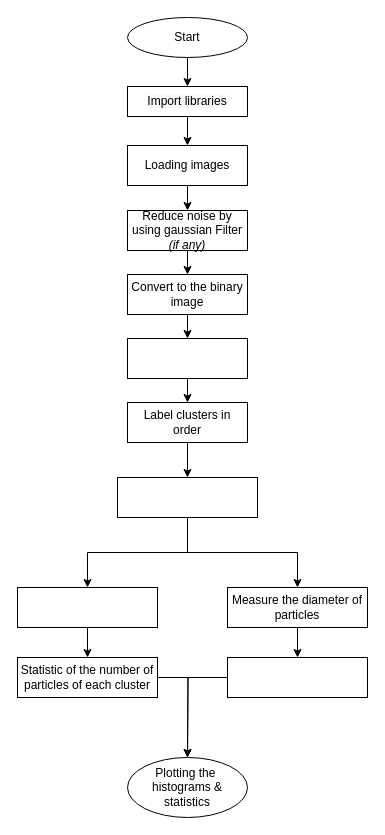
Image size: 385x835. Some labels were removed from this diagram. The shapes that lost their labels are listed below. From the top down, each one's centre as x and y in pixels, then its label:
At point (187, 358): "Remove white dot noise by using morphological filter".
At point (187, 497): "Segment each cluster with watershed".
At point (87, 607): "Count the number of particles of each cluster".
At point (297, 677): "Statistic of the diameter of particles".
